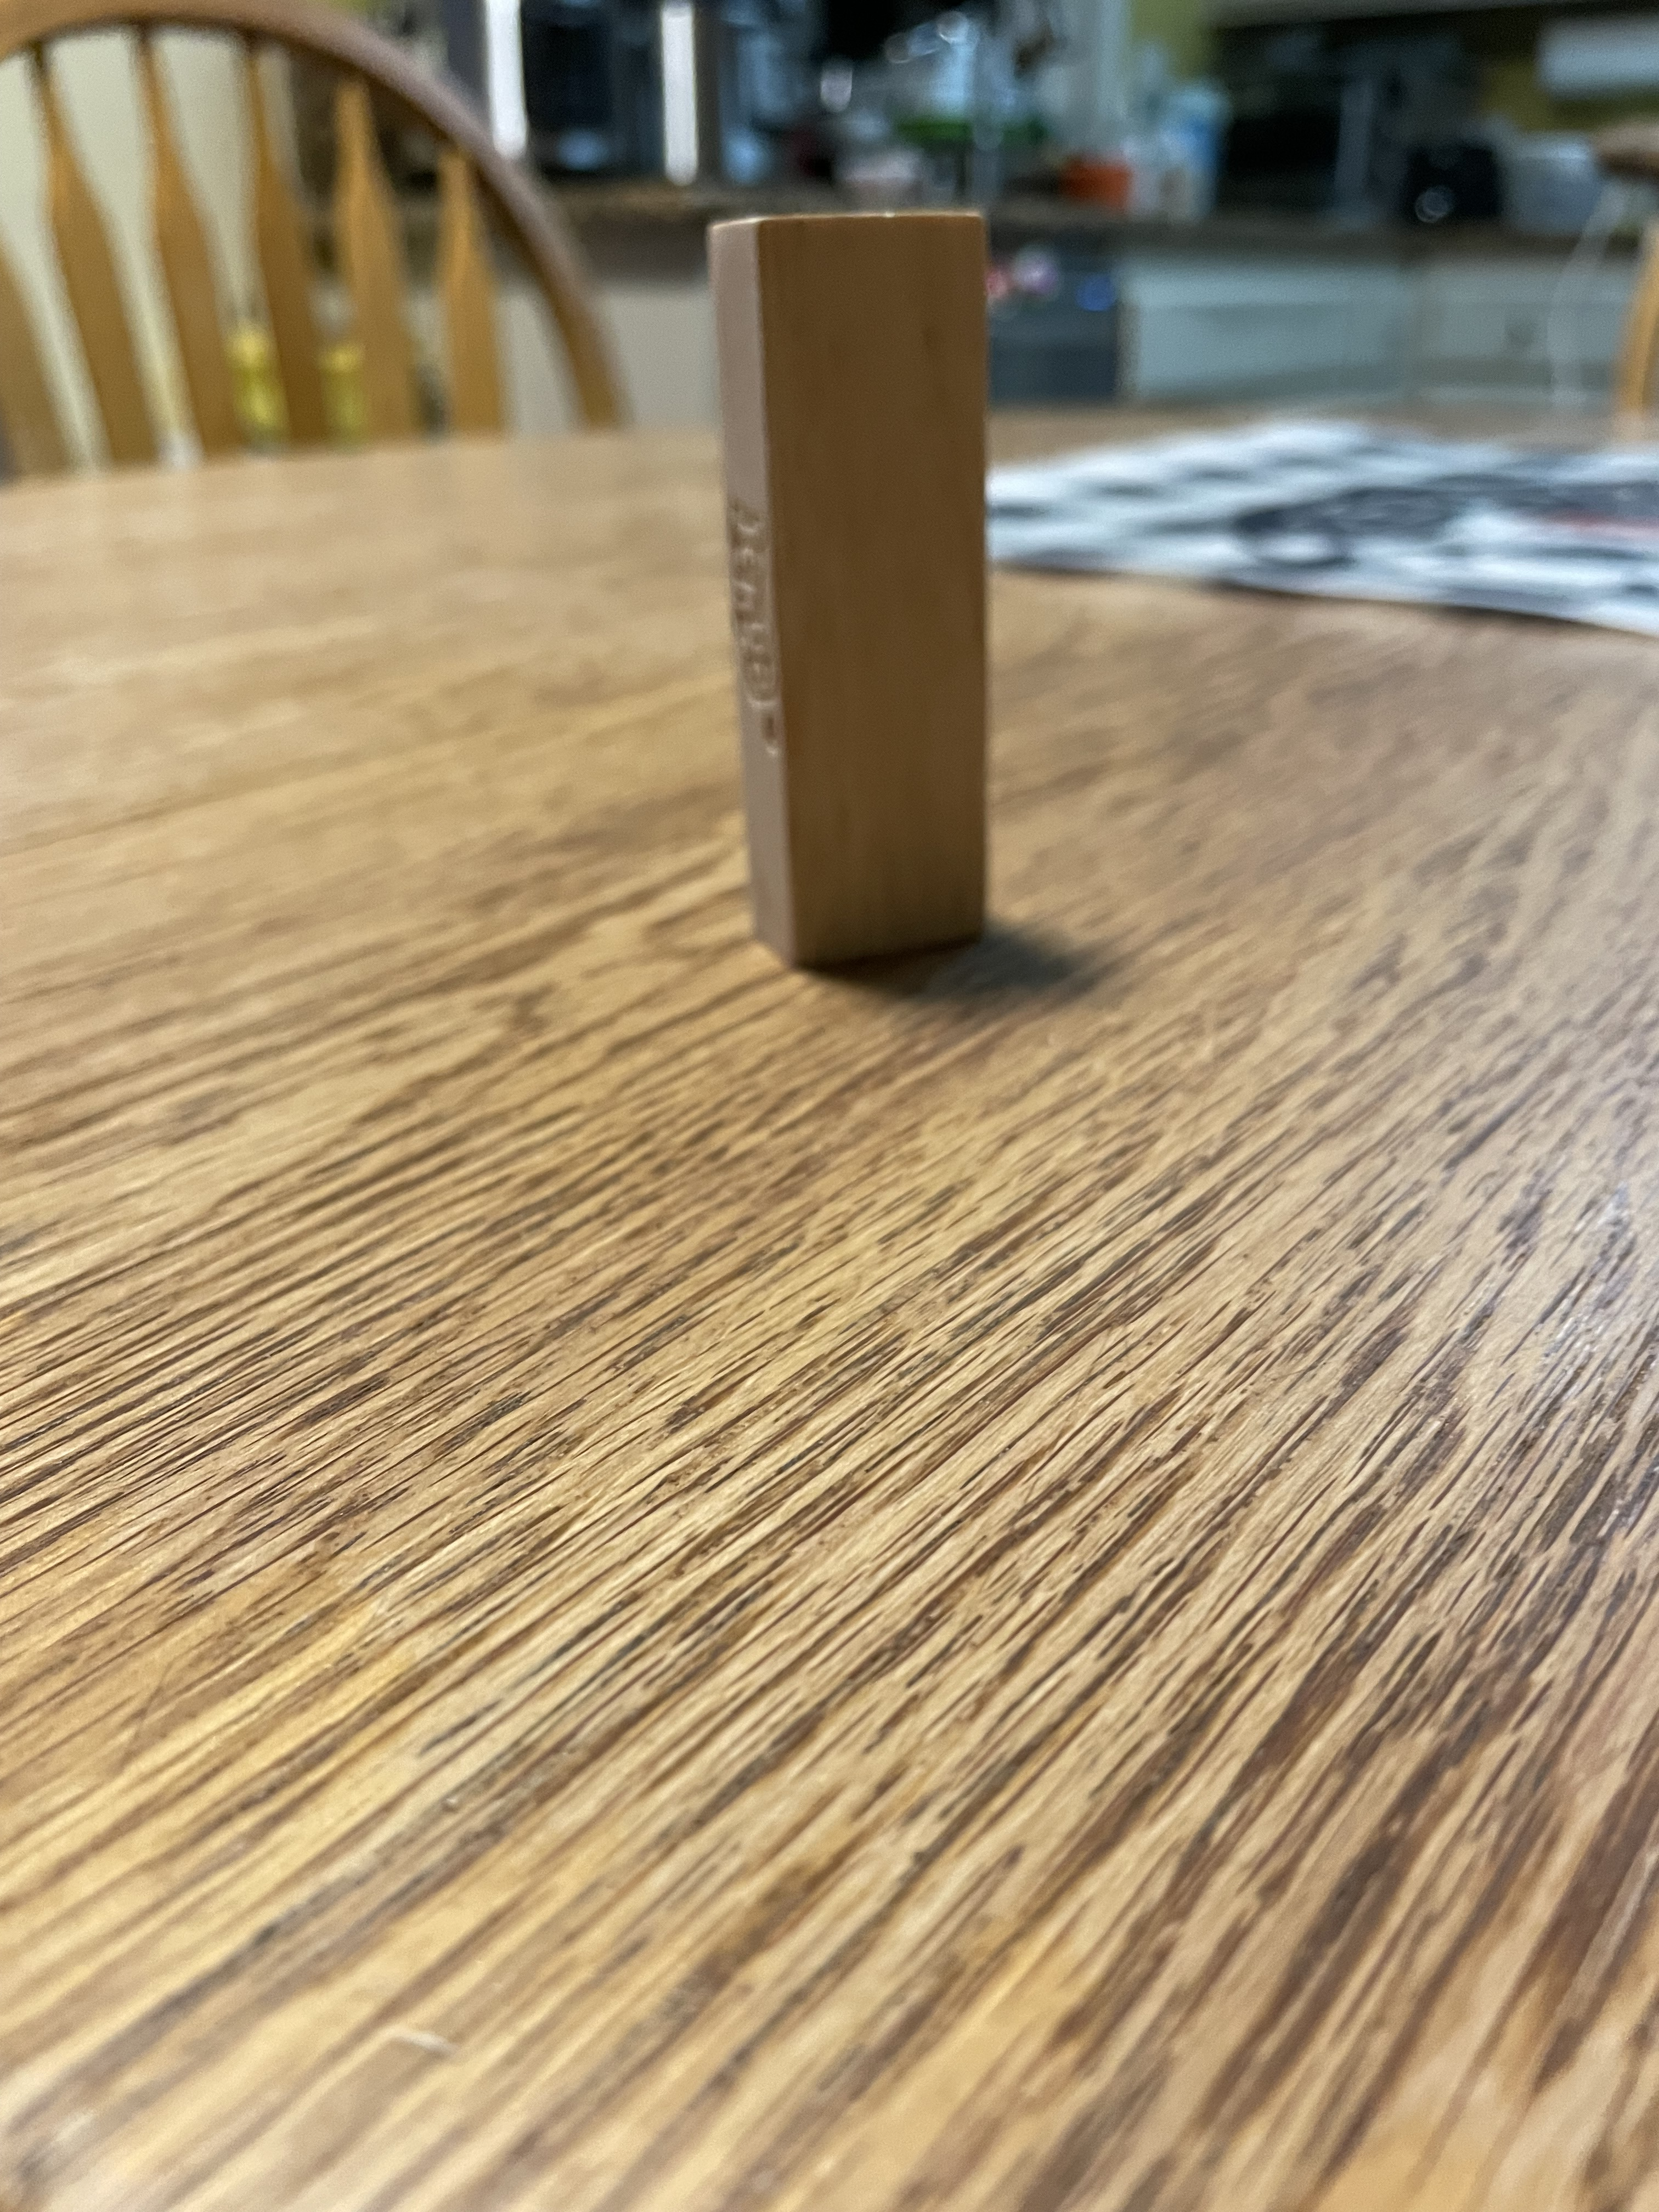jenga: (701, 209, 1006, 954)
